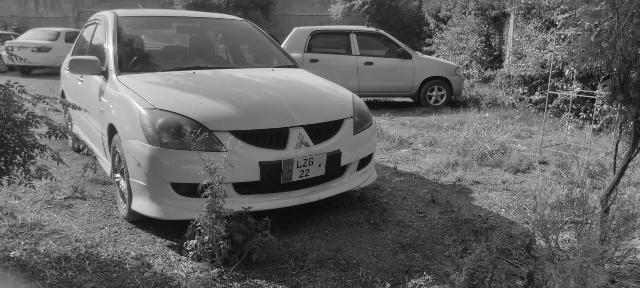Number: (295, 156, 316, 179)
